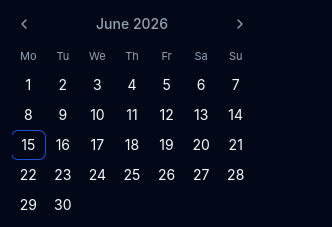
CalendarGrid (#499) › falls back to today’s month when nothing is selected, and navigates months
Expected: the text "June 2026" is shown, [96,14,168,34]
Click the button named "Next month".
click(240, 24)  # box [228,12,252,36]
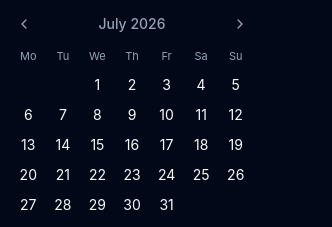
Expected: the text "July 2026" is shown, [98,14,166,34]
Click the button named "Previous month".
click(24, 24)  # box [12,12,36,36]
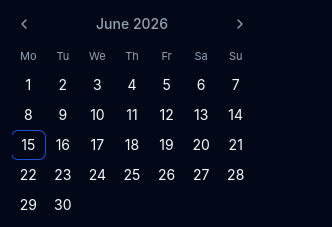
Click the button named "Previous month".
click(24, 24)  # box [12,12,36,36]
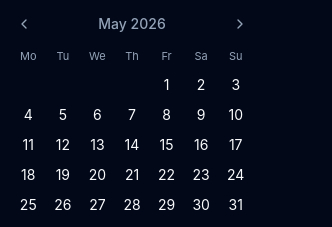
Expected: the text "May 2026" is shown, [98,14,166,34]
